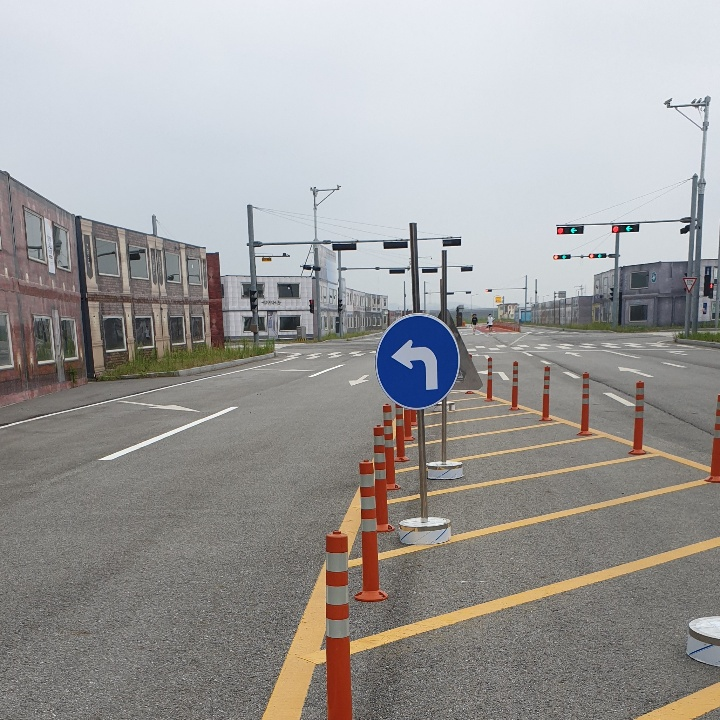left: (385, 337, 445, 398)
